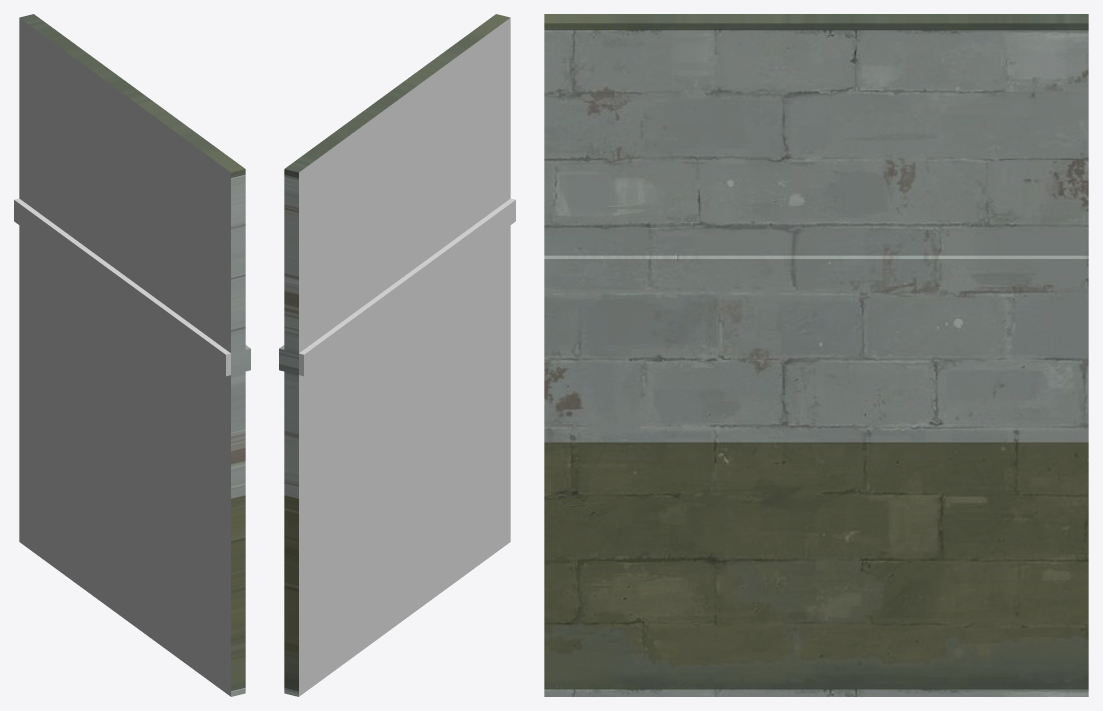
Rendered from Wall_Medium4.fbx.
3 views of the same model, side by side, from view 1: azimuth 30°, elevation 25°; view 2: azimuth 150°, elevation 25°; view 3: azimuth 270°, elevation 25° (orthographic). The views are drawn at different scales.
Parts seen in each view (by area): view 1: Wall_Medium.006; view 2: Wall_Medium.006; view 3: Wall_Medium.006.
Boxes of the visible parts, x1,y1,x2,y2 form: Wall_Medium.006: (14, 14, 250, 696); Wall_Medium.006: (279, 14, 515, 696); Wall_Medium.006: (544, 14, 1088, 696).
Bounding box in the file's own units: 0.4076 × 8.13 × 5.96.
